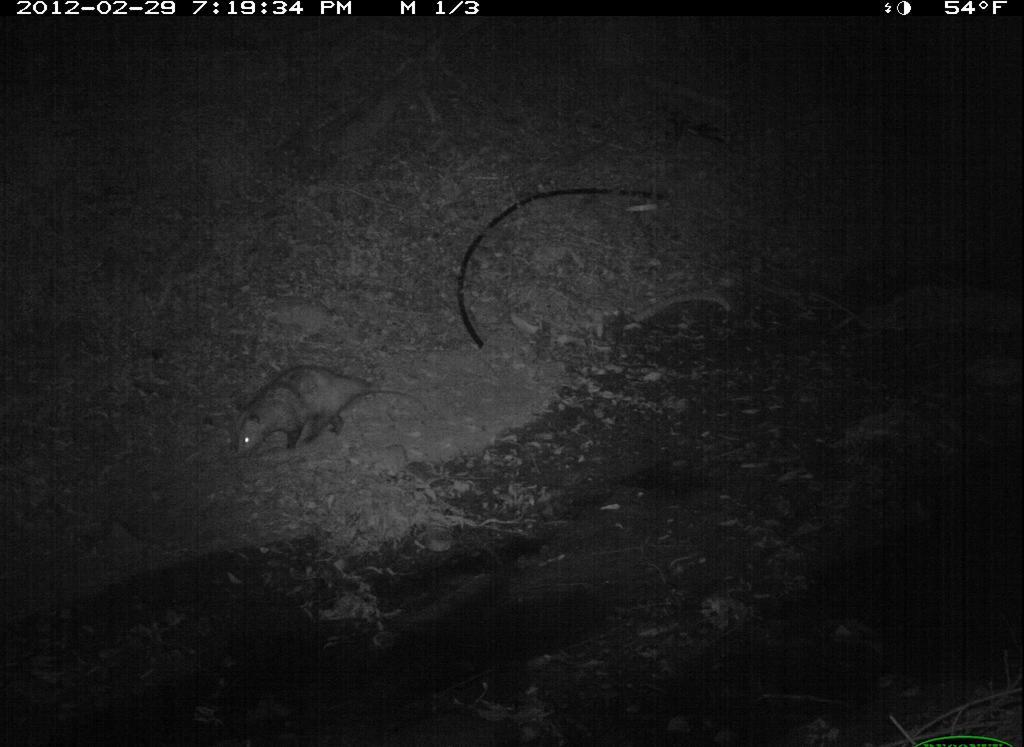opossum: (217, 355, 438, 469)
